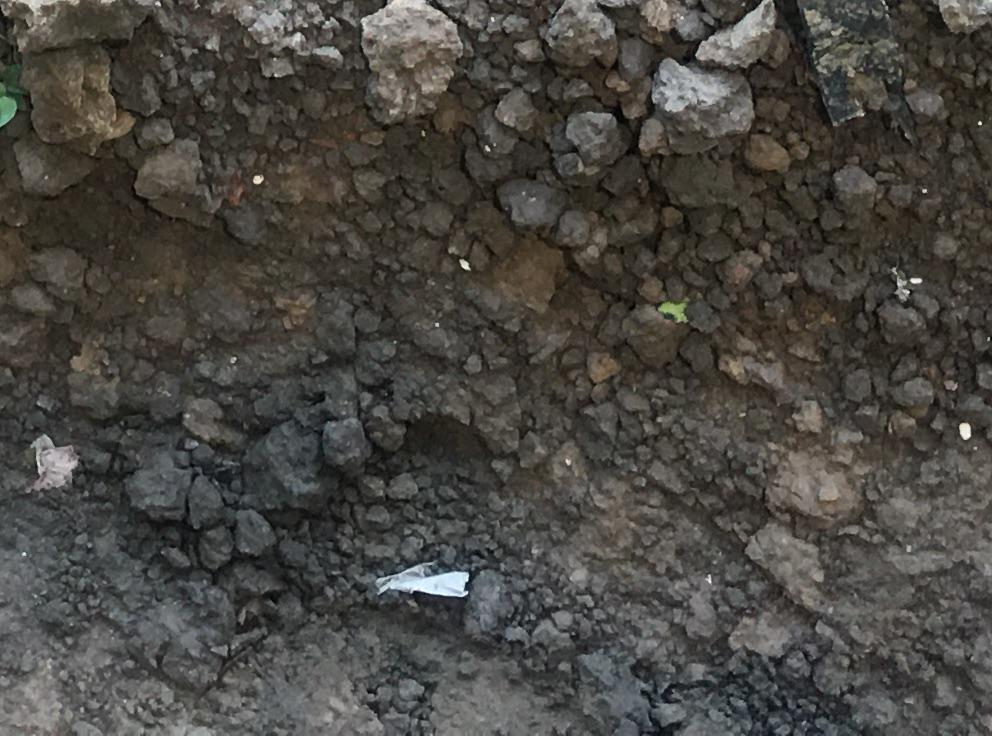block: (356, 6, 459, 124), (17, 50, 135, 144), (645, 56, 752, 157), (133, 139, 229, 226)
